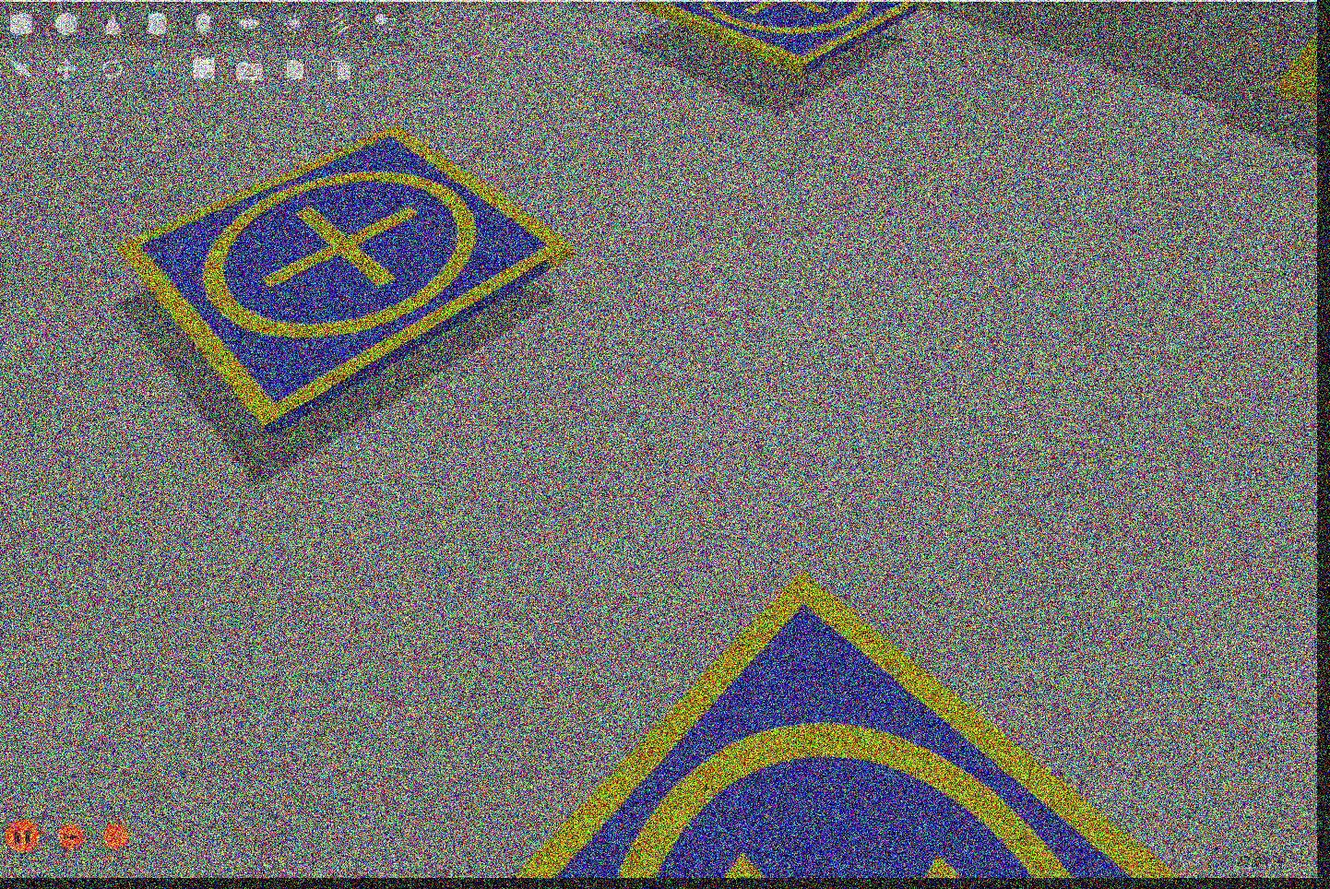small_base: (520, 568, 1185, 878), (114, 124, 577, 437), (639, 1, 919, 76)
